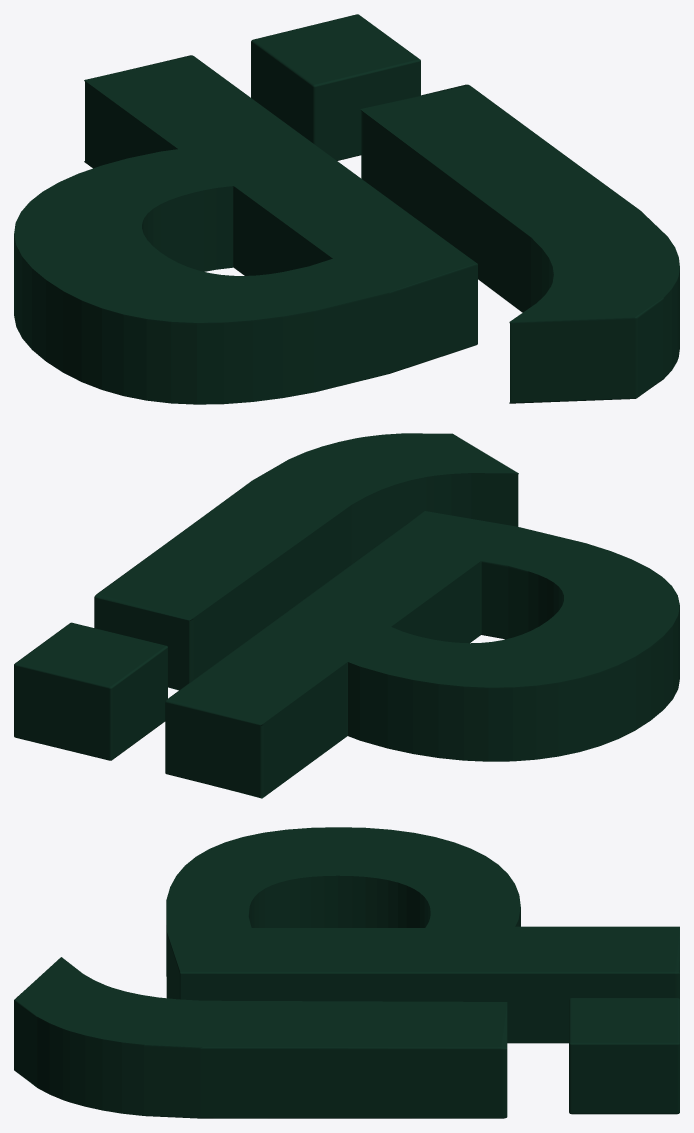
File: django.glb
3 renders of one model, top to bottom at view 1: azimuth 30°, elevation 25°; view 2: azimuth 150°, elevation 25°; view 3: azimuth 270°, elevation 25°, orthographic. The views are drawn at different scales.
Parts seen in each view (by area): view 1: Curve; view 2: Curve; view 3: Curve.
Part boxes in pixels (x1,y1,x2,y2): Curve: (14, 14, 679, 404); Curve: (14, 433, 679, 798); Curve: (14, 827, 679, 1118).
Bounding box in the file's own units: 0.664 × 0.1 × 0.846.
